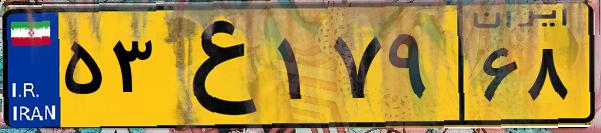1: (270, 28, 330, 110)
3: (110, 28, 158, 98)
5: (57, 26, 110, 100)
6: (475, 38, 525, 113)
7: (330, 28, 385, 110)
8: (525, 38, 570, 115)
9: (385, 28, 445, 110)
ع: (158, 12, 270, 120)
